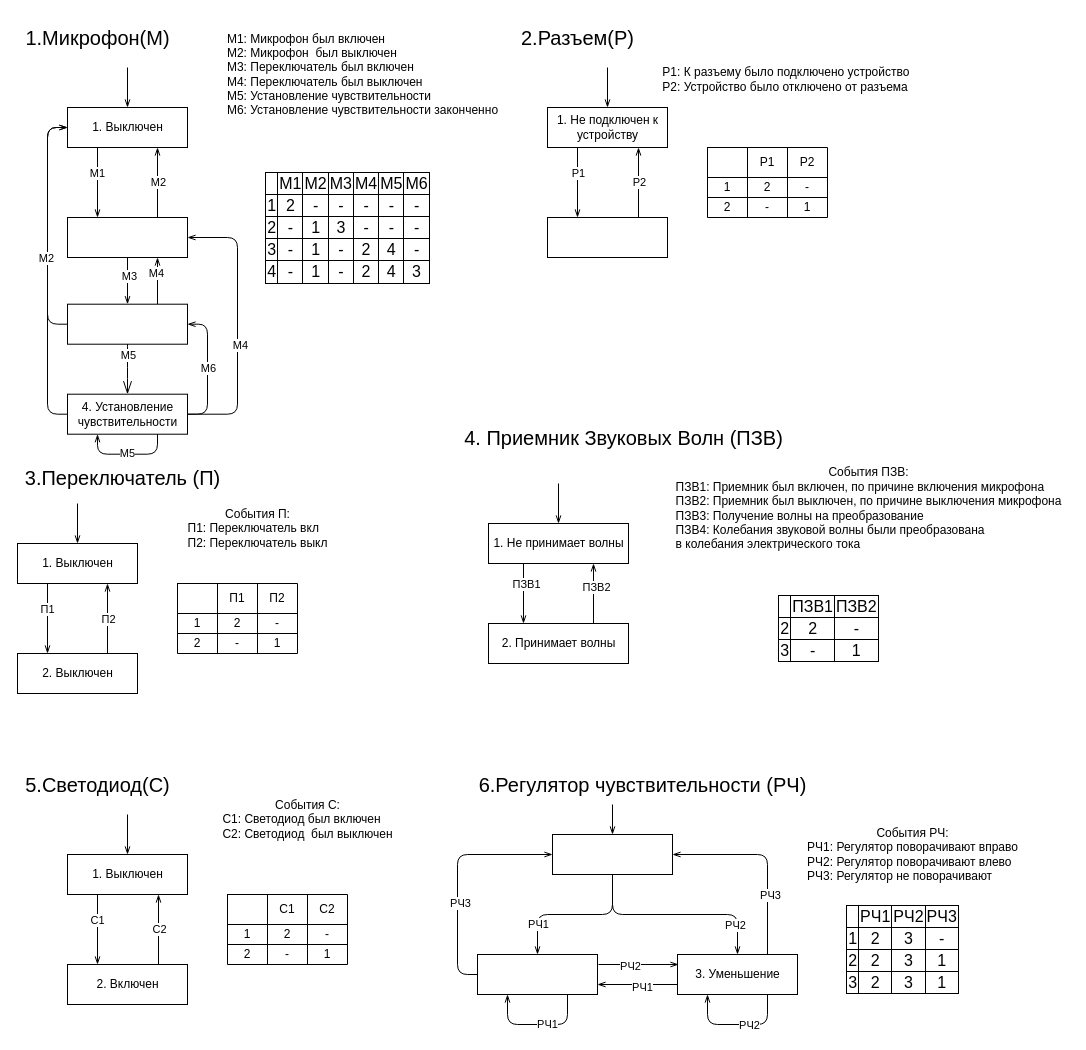
The diagram is 1086 pixels wide and 1050 high, and some of its shapes have lost their labels. Each missing label, with the centre of its shape:
"1. Ожидание" belongs at [612,854].
"2. Готов к работе" belongs at [127,237].
"2. Подключен к устройству" belongs at [607,237].
"2. Увеличение" belongs at [537,974].
"3. Работает" belongs at [127,323].
